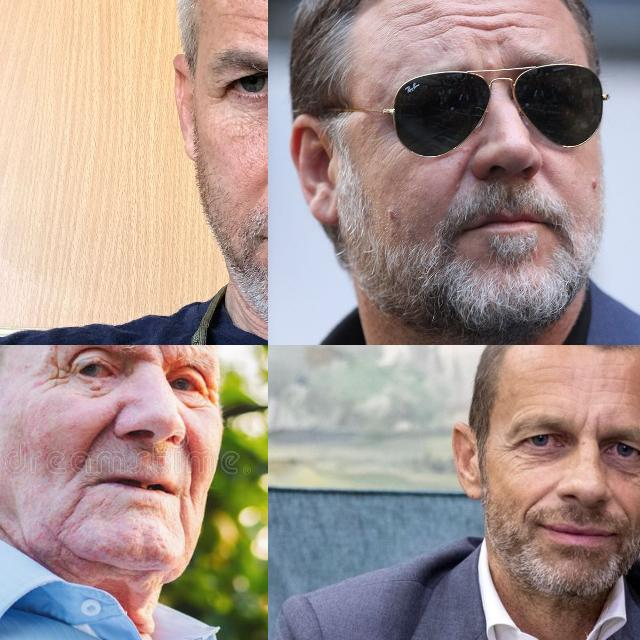chin: (60, 485, 86, 525), (175, 504, 191, 544)
crows_feet: (48, 360, 72, 388), (496, 437, 520, 458)
forehead: (464, 8, 538, 44), (398, 4, 456, 42), (225, 0, 268, 35), (594, 370, 628, 388), (537, 358, 567, 374)
frown_line: (580, 409, 600, 439), (149, 345, 169, 364)
gummy_smile: (456, 144, 478, 196), (86, 412, 112, 456), (517, 486, 547, 518), (186, 443, 200, 491), (618, 502, 632, 526)
